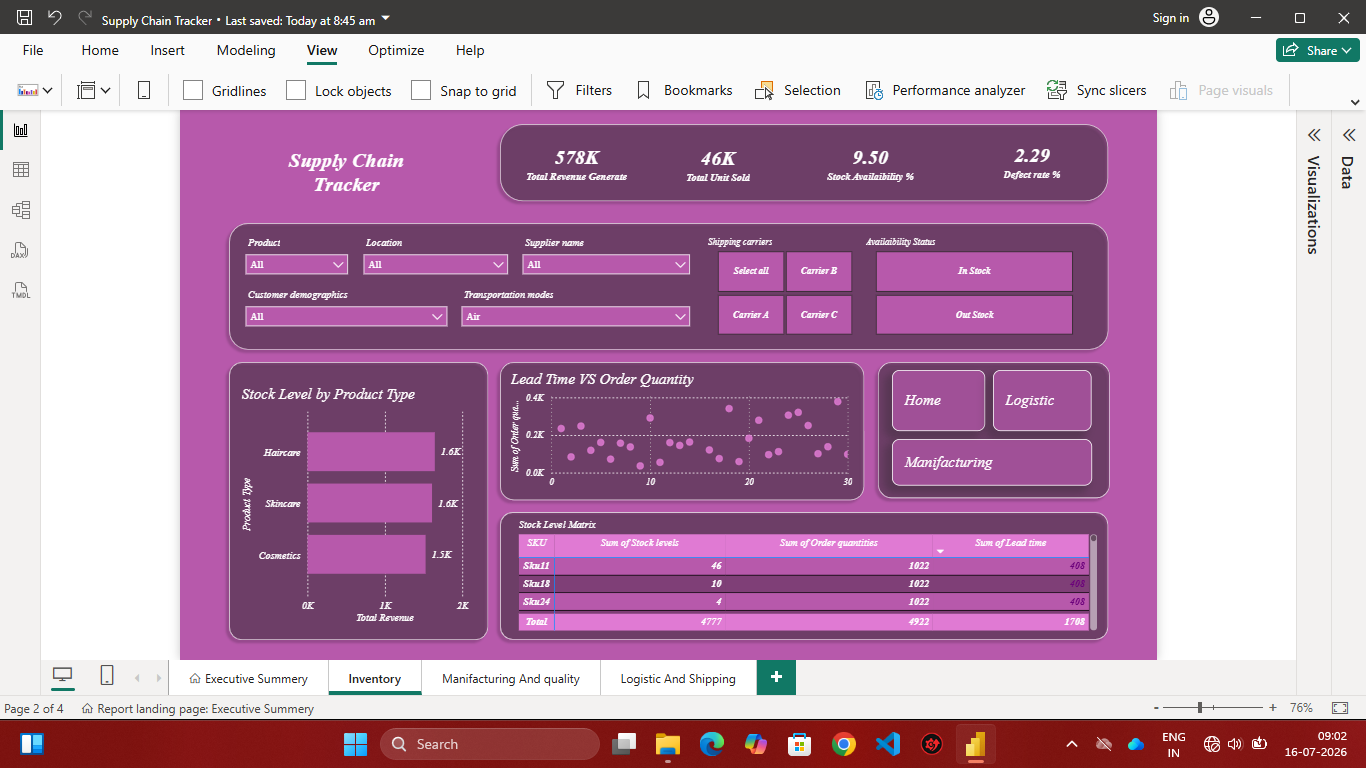

What the dashboard file says about the page in this screenshot:
{"tool":"powerbi","page":{"name":"Inventory","canvas":[1280,720],"ordinal":1},"visuals":[{"type":"textbox","box":[100.5,45.4,234,82.6],"z":0},{"type":"shape","box":[411.5,11,812,117],"z":1000},{"type":"cardVisual","fields":{"Data":["Manifacturing.Defect rate %"]},"box":[1004.7,28.9,220.2,79.8],"z":2000},{"type":"cardVisual","fields":{"Data":["Product/Sales.Stock Availability"]},"box":[783.1,13.8,242.2,114.2],"z":3000},{"type":"cardVisual","fields":{"Data":["Product/Sales.Total Unit Sold"]},"box":[618,31.7,173.4,82.6],"z":4000},{"type":"cardVisual","fields":{"Data":["Product/Sales.Total Revenue Generate"]},"box":[419.8,31.7,198.2,79.8],"z":5000},{"type":"shape","box":[56.4,140.4,1167.1,181.7],"z":6000},{"type":"slicer","fields":{"Values":["Product/Sales.Product type"]},"box":[75.7,161,154.2,67.4],"z":7000},{"type":"slicer","fields":{"Values":["Ordering.Location"]},"box":[229.8,161,209.2,78.5],"z":8000},{"type":"slicer","fields":{"Values":["Ordering.Supplier name"]},"box":[439.1,161,239.5,67.4],"z":9000},{"type":"slicer","fields":{"Values":["Product/Sales.Customer demographics"]},"box":[75.7,228.5,283.5,72.9],"z":10000},{"type":"slicer","fields":{"Values":["Shipping/Logistic.Transportation modes"]},"box":[359.2,228.5,319.3,72.9],"z":11000},{"type":"slicer","fields":{"Values":["Shipping/Logistic.Shipping carriers"]},"box":[678.5,161,225.7,140.4],"z":12000},{"type":"slicer","fields":{"Values":["Product/Sales.Availaibility Status"]},"box":[885,161,308.3,140.4],"z":13000},{"type":"shape","box":[56.4,322.1,355.1,379.9],"z":14000},{"type":"barChart","title":"Stock Level by Product Type","fields":{"Category":["Product/Sales.Product type"],"Y":["Sum(Product/Sales.Stock levels)"]},"box":[76.3,360,306.7,316.8],"z":15000},{"type":"shape","box":[411.5,322.1,492.7,196.8],"z":16000},{"type":"shape","box":[411.5,518.9,812,183.1],"z":17000},{"type":"shape","box":[905.6,322.1,319.3,194.1],"z":18000},{"type":"actionButton","box":[931.8,340,122.5,79.8],"z":19000},{"type":"actionButton","box":[1063.9,340,129.4,79.8],"z":20000},{"type":"actionButton","box":[931.8,430.8,261.5,60.6],"z":21000},{"type":"pivotTable","title":"Stock Level Matrix","fields":{"Rows":["Product/Sales.SKU"],"Values":["Sum(Product/Sales.Stock levels)","Sum(Ordering.Order quantities)","Sum(Ordering.Lead time)"]},"box":[439.1,535.4,766.6,151.4],"z":22000},{"type":"scatterChart","title":"Lead Time VS Order Quantity","fields":{"Y":["Sum(Ordering.Order quantities)"],"X":["Ordering.Lead time"]},"box":[428,340,456.9,162.4],"z":23000}]}

Visuals, with their boxes on the page's 1280x720 design canvas (x1, y1, x2, y2). These are canvas units, not pixel positions in the 1366x768 screenshot, which may show the page scaled, cropped or inside an application window:
textbox: 100,45,334,128
shape: 412,11,1224,128
cardVisual - Manifacturing.Defect rate %: 1005,29,1225,109
cardVisual - Product/Sales.Stock Availability: 783,14,1025,128
cardVisual - Product/Sales.Total Unit Sold: 618,32,791,114
cardVisual - Product/Sales.Total Revenue Generate: 420,32,618,112
shape: 56,140,1224,322
slicer - Product/Sales.Product type: 76,161,230,228
slicer - Ordering.Location: 230,161,439,240
slicer - Ordering.Supplier name: 439,161,679,228
slicer - Product/Sales.Customer demographics: 76,228,359,301
slicer - Shipping/Logistic.Transportation modes: 359,228,678,301
slicer - Shipping/Logistic.Shipping carriers: 678,161,904,301
slicer - Product/Sales.Availaibility Status: 885,161,1193,301
shape: 56,322,412,702
"Stock Level by Product Type" barChart: 76,360,383,677
shape: 412,322,904,519
shape: 412,519,1224,702
shape: 906,322,1225,516
actionButton: 932,340,1054,420
actionButton: 1064,340,1193,420
actionButton: 932,431,1193,491
"Stock Level Matrix" pivotTable: 439,535,1206,687
"Lead Time VS Order Quantity" scatterChart: 428,340,885,502
